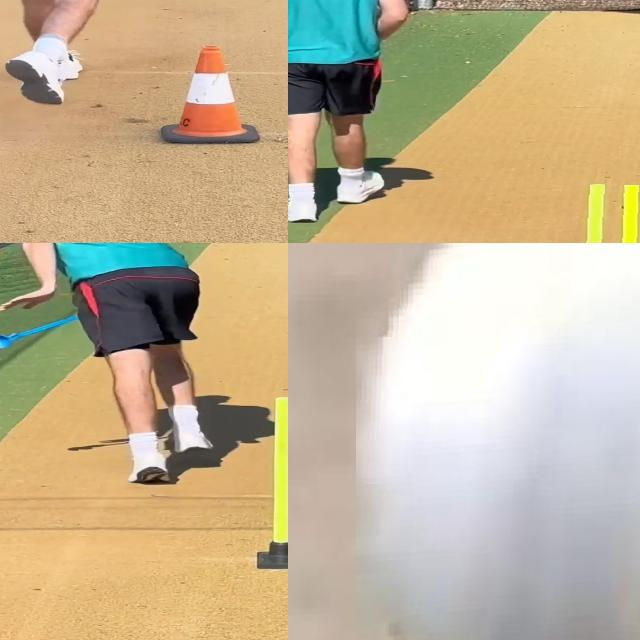Cricket ball: (356, 243, 640, 640)
Stumps: (255, 396, 288, 568)
